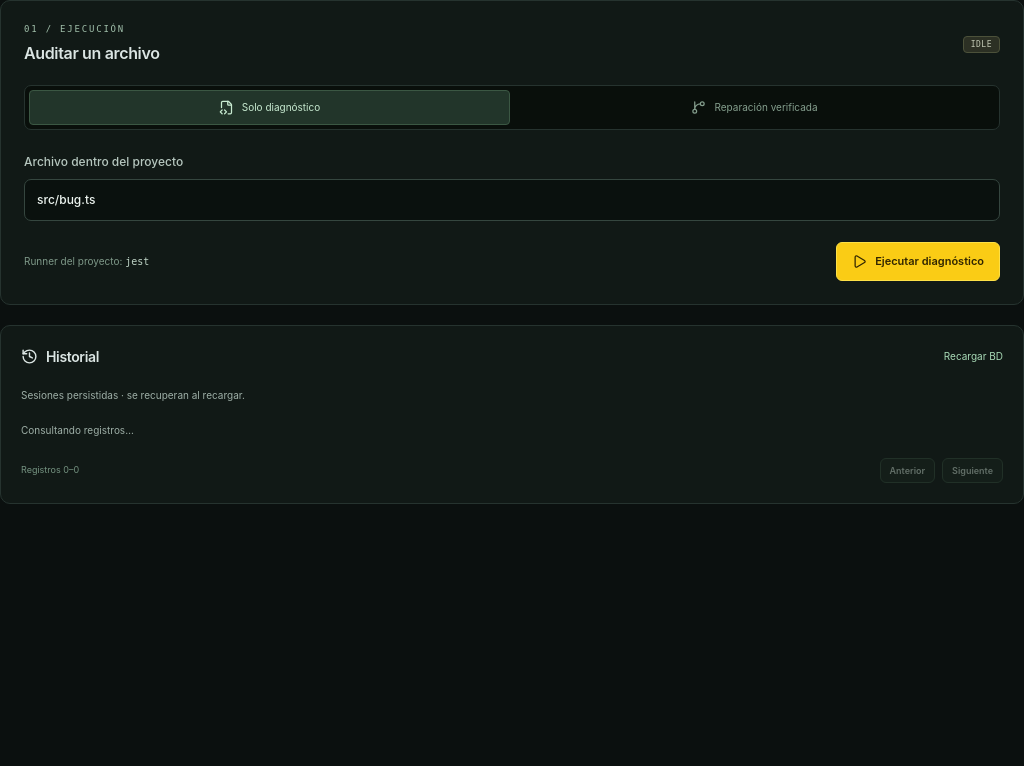
Scenario: dashboard views › executes diagnosis, displays AST evidence and explains persisted blocked status
Step 1. Click the button "Ejecutar diagnóstico" → (918, 262), box x1=836 y1=242 x2=1000 y2=281
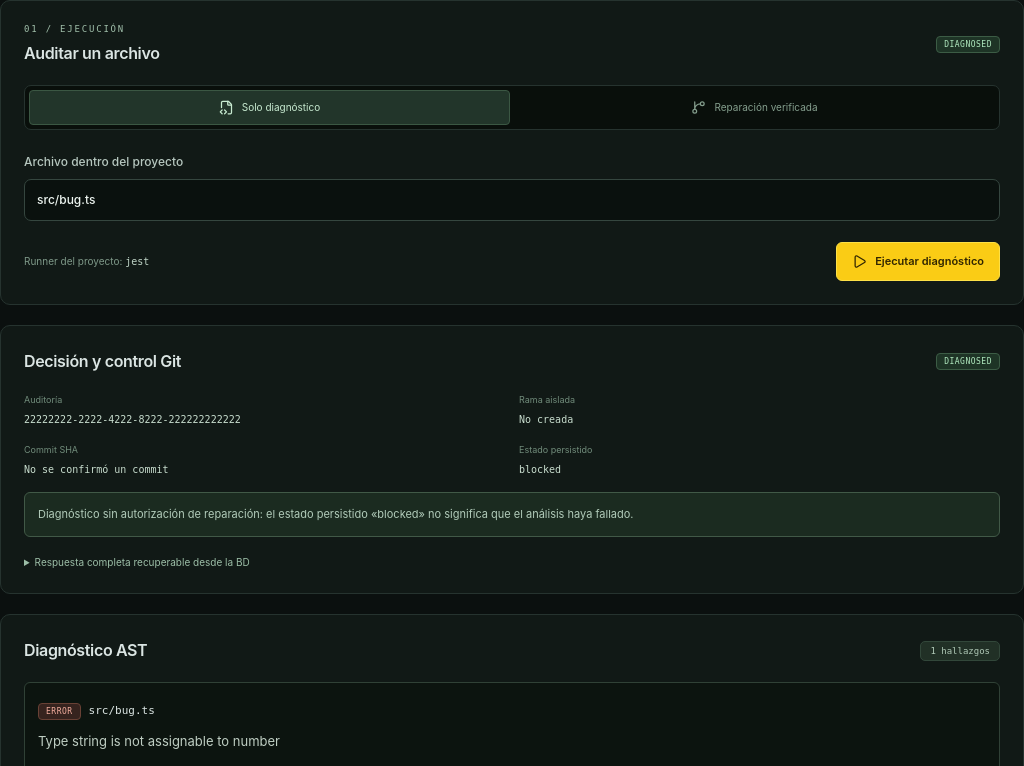
Expected: the text "Type string is not assignable to number" is shown, x1=38 y1=733 x2=280 y2=749
Expected: the text "Diagnóstico sin autorización de reparación" is shown, x1=38 y1=507 x2=634 y2=521
